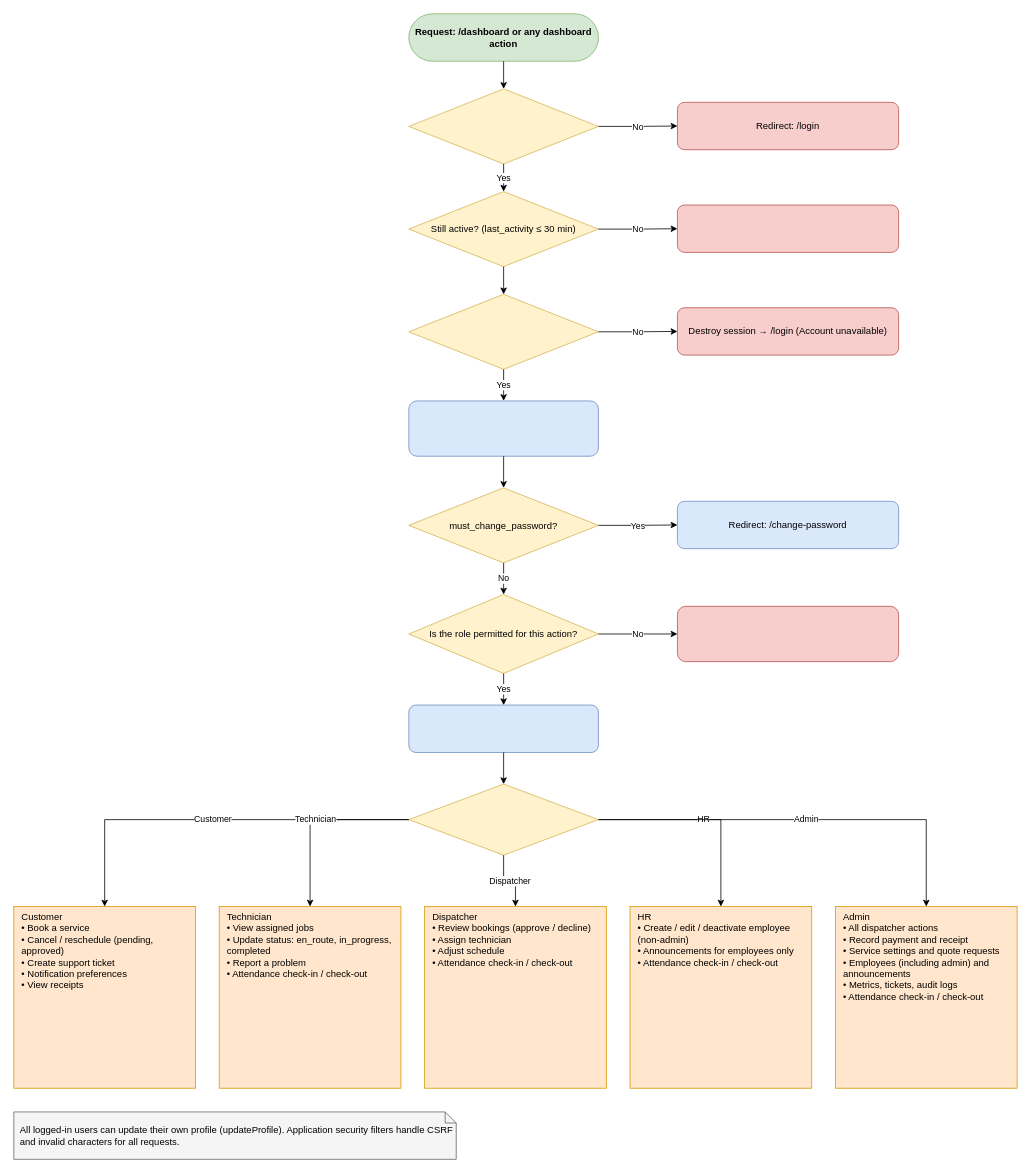
This 1031x1173 diagram has some shape labels left out. The centre of each missing label's shape, as x and y in pixels:
Destroy session → /login (Session expired): (788,228)
Is user_id in session?: (503,126)
Redirect: /dashboard with error: You do not have permission: (788,634)
Refresh last_activity; sync role and must_change_password: (503,428)
Run action / render Dashboard::index: (503,728)
User exists and is_active?: (503,331)
What is the user role?: (503,819)
